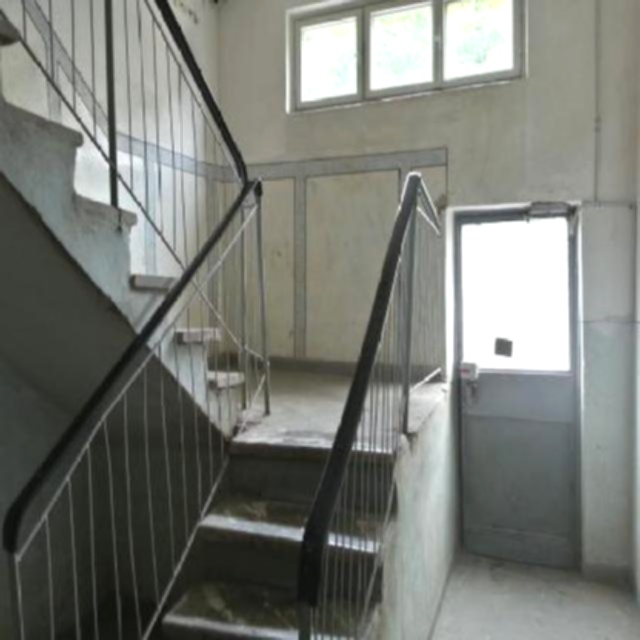stair: (1, 0, 270, 392), (165, 399, 453, 639)
